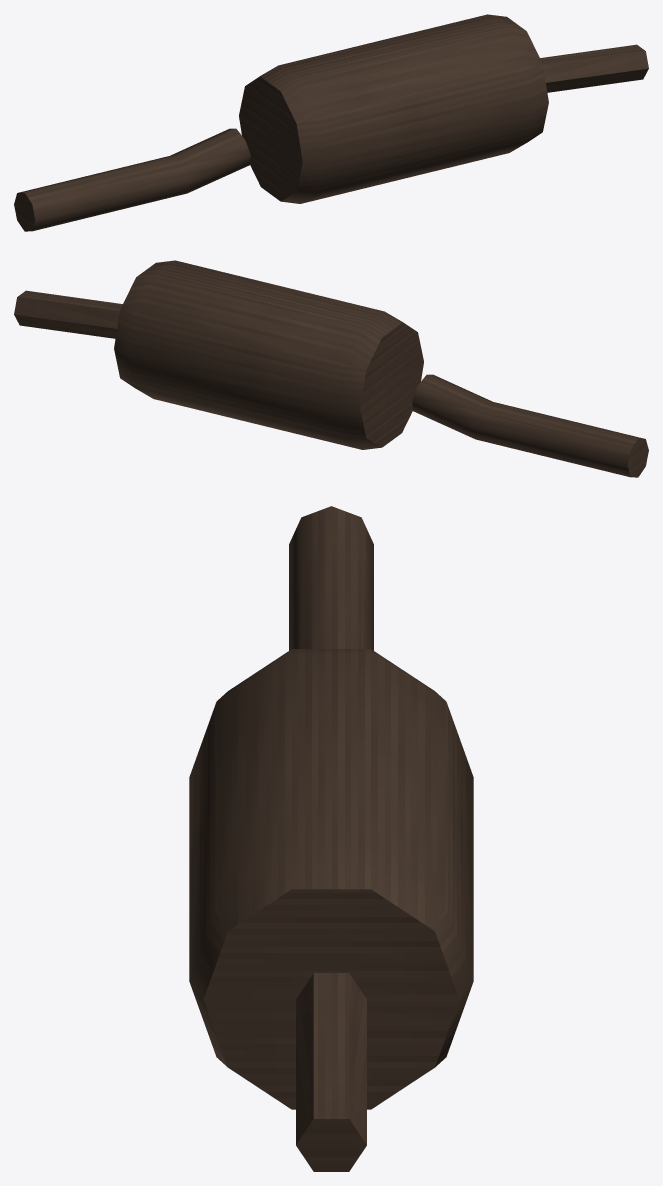
Rendered from escape_fabrica.glb.
3 views of the same model, one above another, from view 1: azimuth 30°, elevation 25°; view 2: azimuth 150°, elevation 25°; view 3: azimuth 270°, elevation 25° (orthographic). The views are drawn at different scales.
Visible parts, largest first — view 1: escape_fabrica; view 2: escape_fabrica; view 3: escape_fabrica.
Boxes of the visible parts, x1=… form: escape_fabrica: x1=14, y1=14, x2=648, y2=231; escape_fabrica: x1=14, y1=260, x2=648, y2=477; escape_fabrica: x1=189, y1=506, x2=473, y2=1171.
Bounding box in the file's own units: 1 × 0.1902 × 0.2.
Materials: 1 (1 with a texture image).
